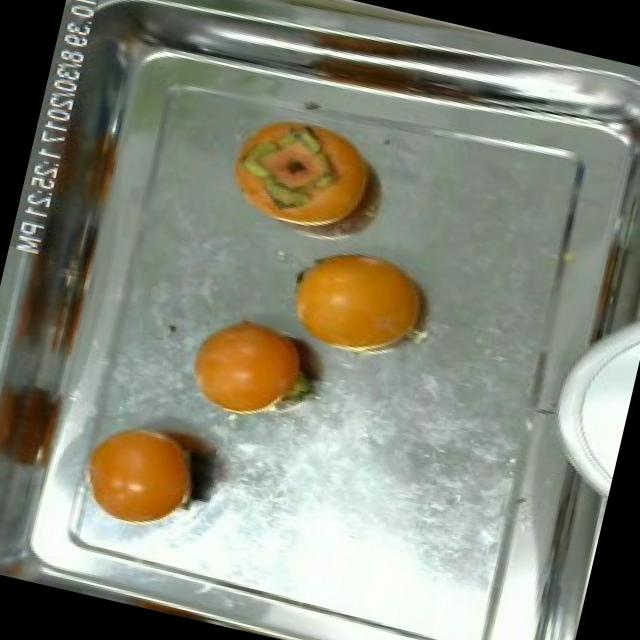Fruit: (210, 95, 398, 248), (272, 225, 453, 372), (170, 299, 336, 437), (66, 401, 221, 544), (0, 359, 91, 495)
